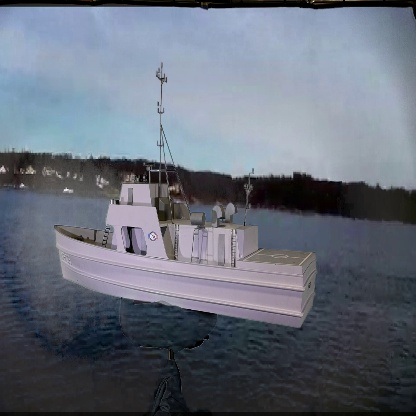YP689: (55, 59, 318, 331)
